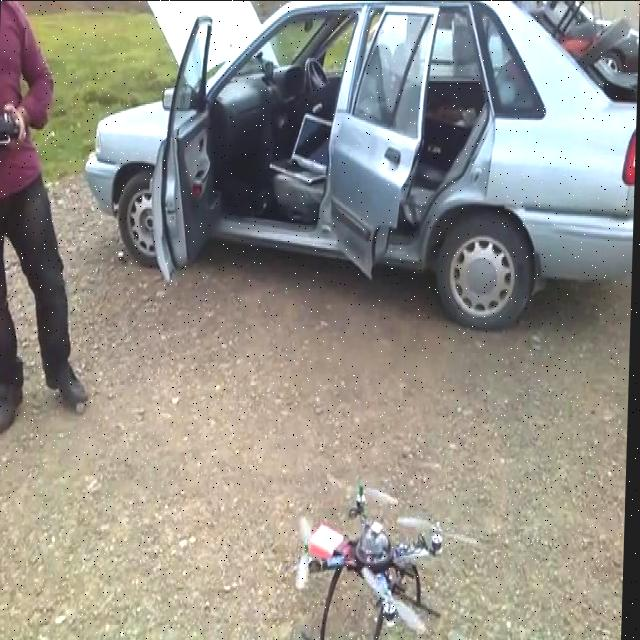drone: (297, 480, 457, 638)
